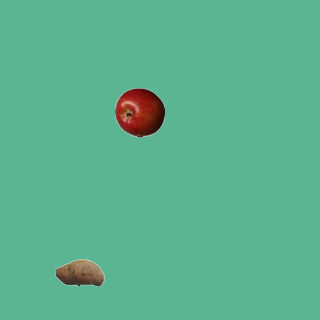Apple Braeburn: (114, 87, 164, 137)
Potato Sweet: (54, 247, 104, 297)
